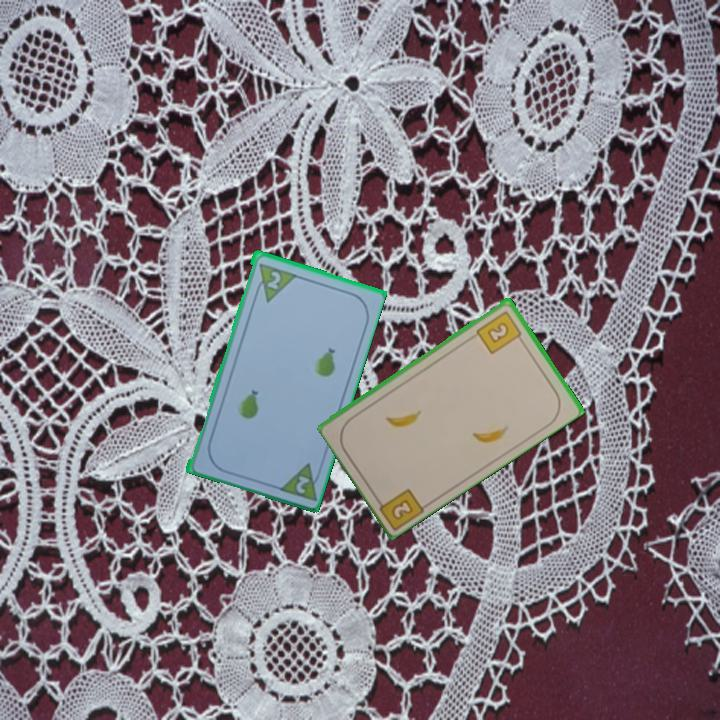2b: (371, 484, 428, 531), (473, 307, 526, 357)
2p: (263, 267, 284, 292), (292, 472, 312, 496)
